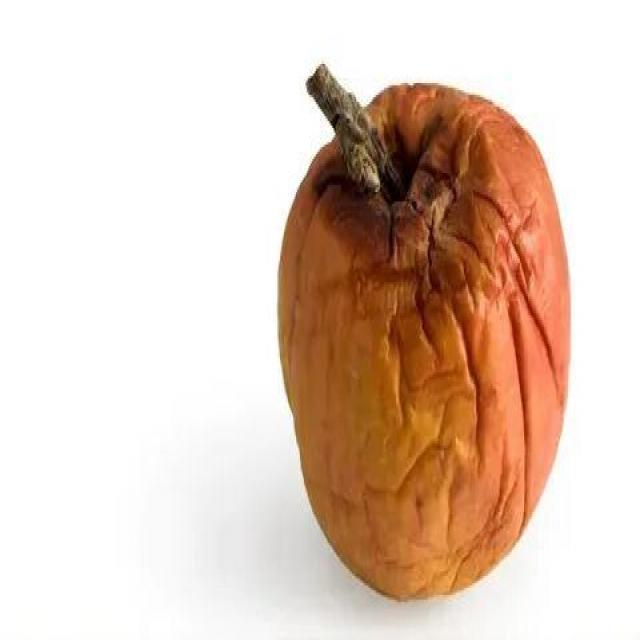Rotten: (268, 60, 570, 595)
